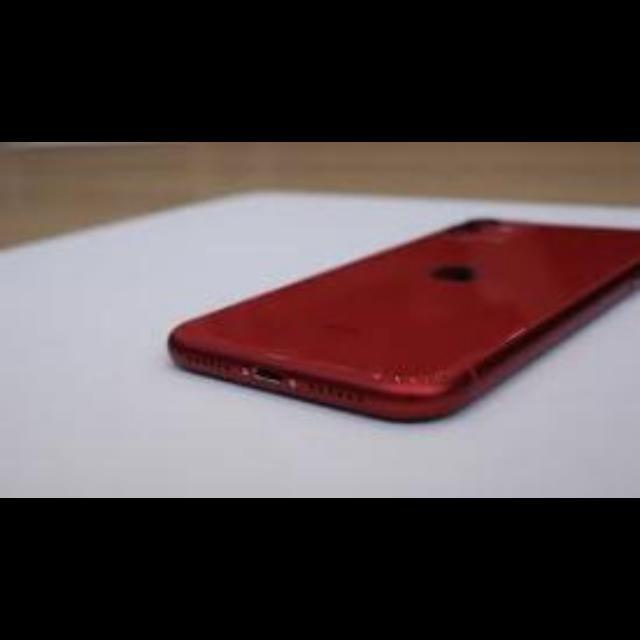Phone: (167, 219, 639, 423)
